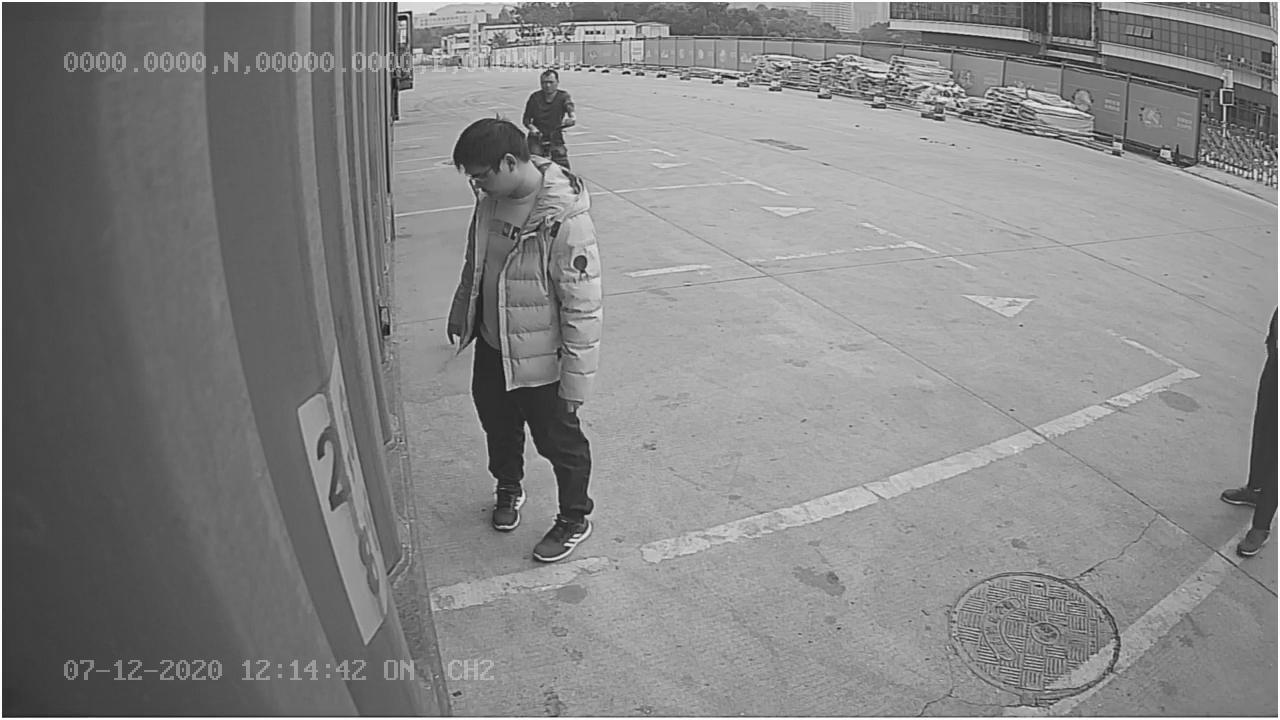person: (446, 119, 602, 564)
